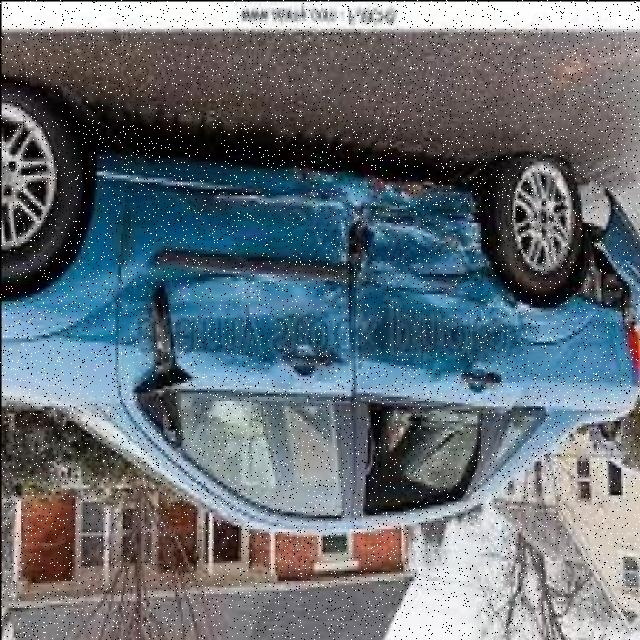damage: (17, 162, 637, 515)
